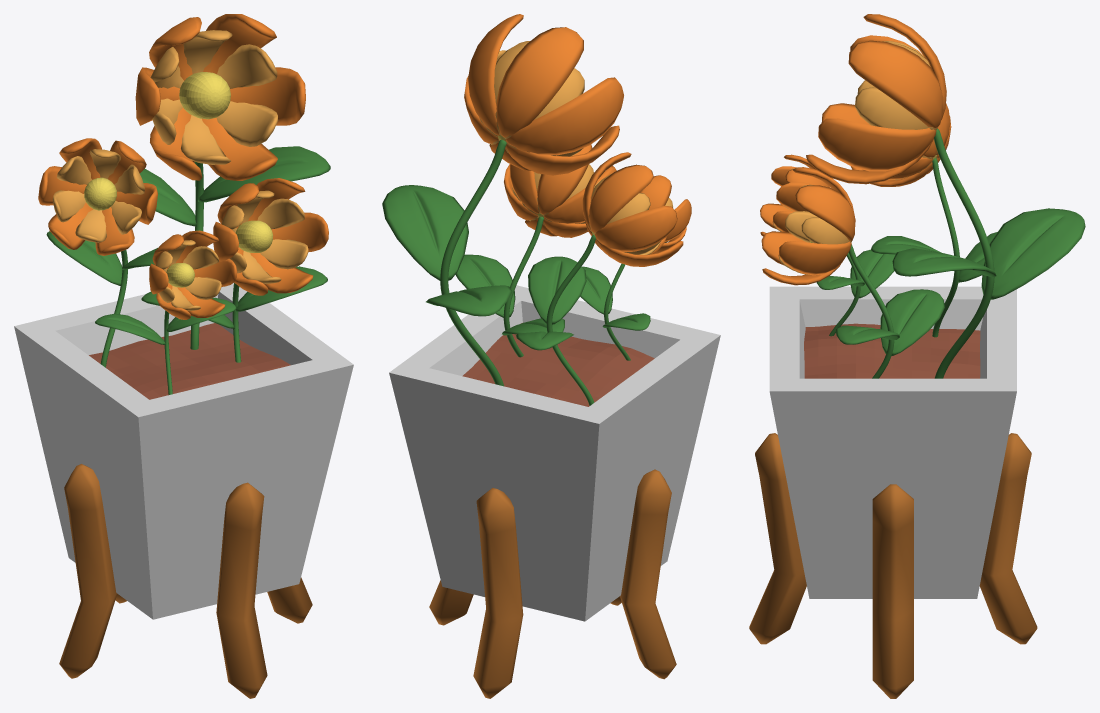
Rendered from FlorN.fbx.
3 renders of one model, left to right at view 1: azimuth 30°, elevation 25°; view 2: azimuth 150°, elevation 25°; view 3: azimuth 270°, elevation 25°, orthographic. The views are drawn at different scales.
Parts seen in each view (by area): view 1: Maceta, Patas.002, Plane, Patas.001, Plane.001, Sphere.012, Sphere.011, Sphere.006, Sphere, Sphere.007, Sphere.001, Sphere.010 (+42 smaller); view 2: Maceta, Patas.003, Plane, Patas.001, Sphere.008, Plane.001, Sphere.009, Sphere.007, Plane.007, Sphere.048, Sphere.047, NurbsPath (+22 smaller); view 3: Maceta, Patas, Plane, Patas.003, Patas.002, Plane.002, Sphere.007, Sphere.012, Plane.004, NurbsPath, Sphere.020, Plane.001 (+16 smaller).
Boxes of the visible parts, x1,y1,x2,y2 form: Maceta: (14,283,353,619); Patas.002: (216,482,267,698); Plane: (89,323,290,399); Patas.001: (59,464,117,678); Plane.001: (198,146,330,202); Sphere.012: (230,67,305,125); Sphere.011: (202,117,277,180); Sphere.006: (216,101,278,146); Sphere: (179,72,230,119); Sphere.007: (203,14,276,74); Sphere.001: (217,44,277,88); Sphere.010: (150,107,202,180); Maceta: (389,285,720,621); Patas.003: (473,488,523,698); Plane: (462,323,654,406); Patas.001: (620,469,676,679); Sphere.008: (496,27,583,137); Plane.001: (382,185,468,280); Sphere.009: (505,77,623,155); Sphere.007: (468,14,523,135); Plane.007: (528,256,586,324); Sphere.048: (595,205,677,251); Sphere.047: (589,164,653,232); NurbsPath: (440,139,506,386); Maceta: (769,286,1016,598); Patas: (872,484,913,698); Plane: (804,323,980,378); Patas.003: (979,433,1037,644); Patas.002: (749,433,806,644); Plane.002: (981,208,1085,299); Sphere.007: (848,40,943,127); Sphere.012: (818,118,936,171); Plane.004: (880,289,944,355); NurbsPath: (934,128,994,378); Sphere.020: (795,185,855,241); Plane.001: (892,248,996,276).
Bounding box in the file's own units: 110 × 232 × 112.
